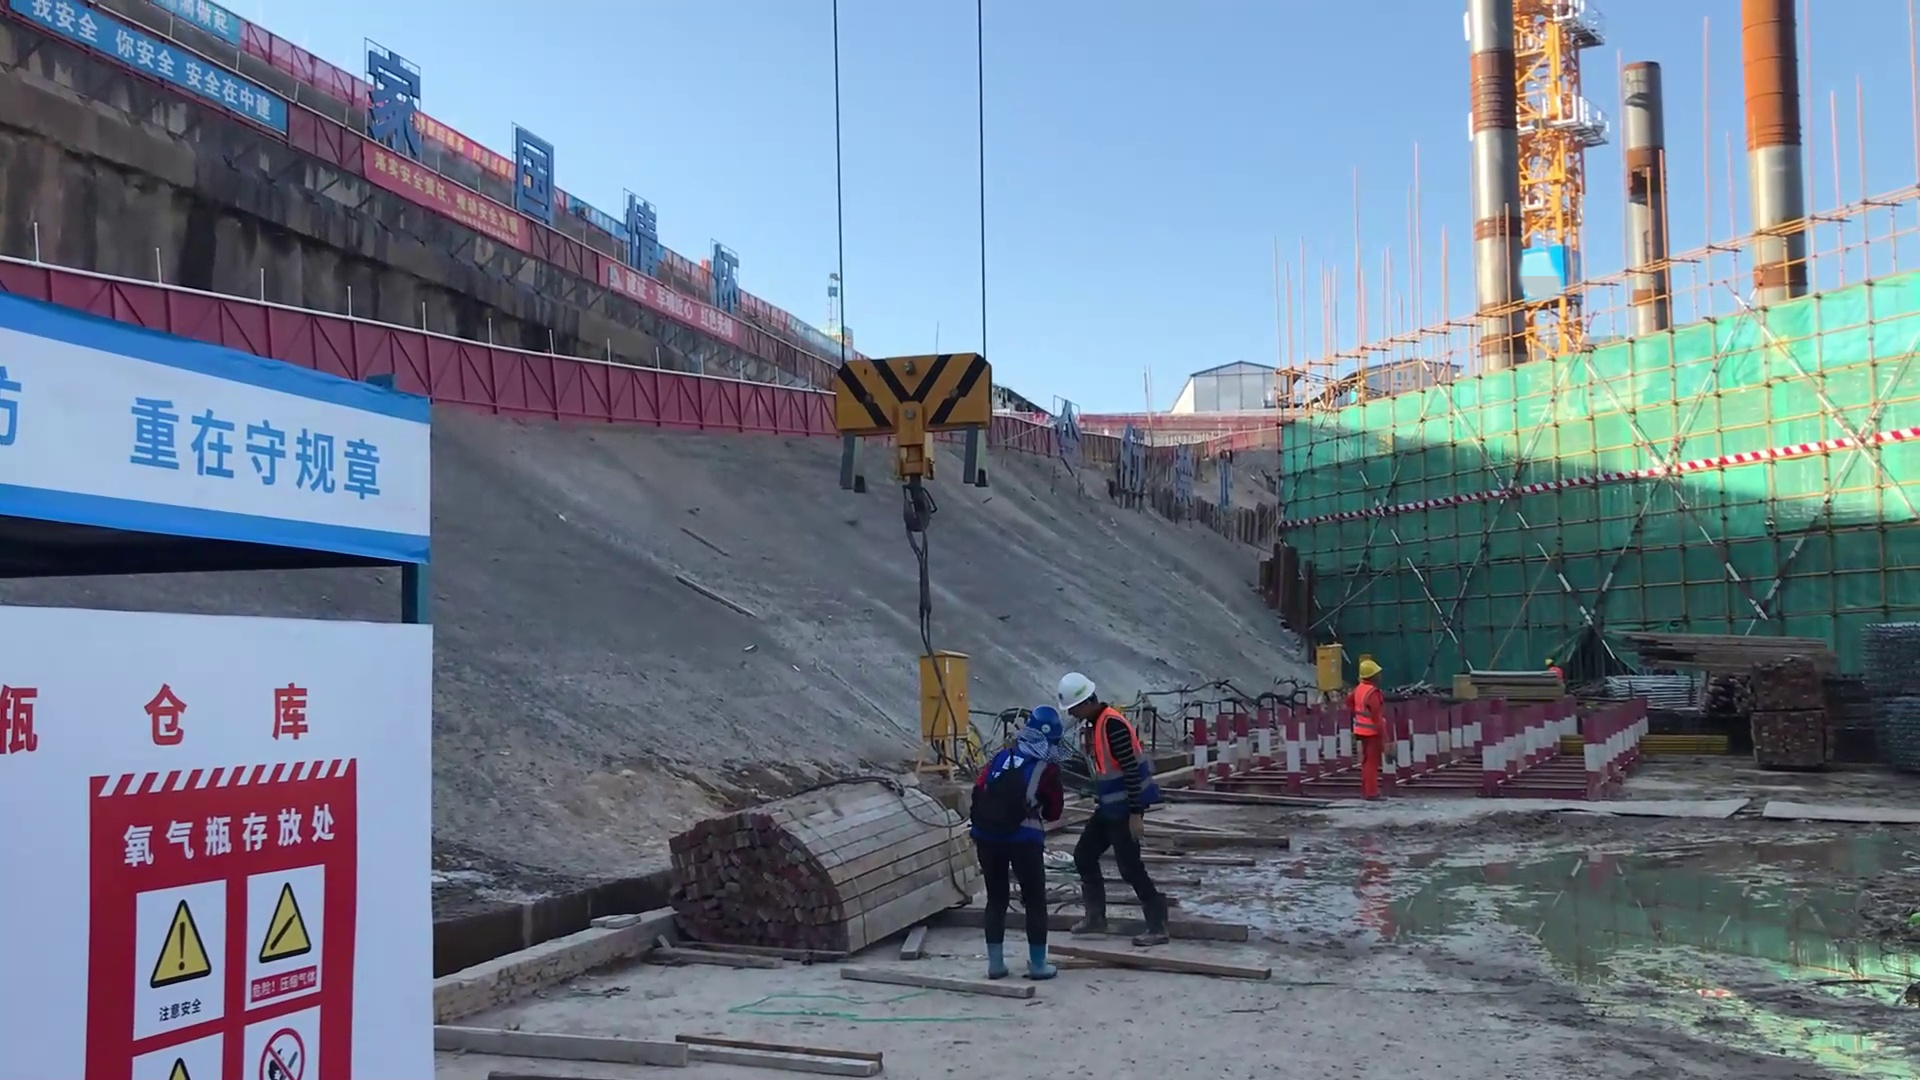ebox: (899, 631, 981, 761), (1310, 643, 1353, 697)
fence: (428, 348, 815, 448)
helmet: (1015, 705, 1085, 762), (1052, 669, 1106, 723), (1346, 652, 1391, 683), (1535, 649, 1558, 669)
hook: (817, 359, 1008, 505)
person: (1049, 672, 1169, 949), (968, 704, 1060, 989), (1342, 655, 1394, 804)
slogan: (1, 317, 412, 576), (71, 802, 315, 1080), (31, 1, 289, 156), (336, 144, 508, 261)
vest: (985, 744, 1055, 849), (1073, 716, 1134, 808), (1348, 682, 1388, 743)
wood: (638, 774, 966, 982), (1625, 615, 1828, 692)
